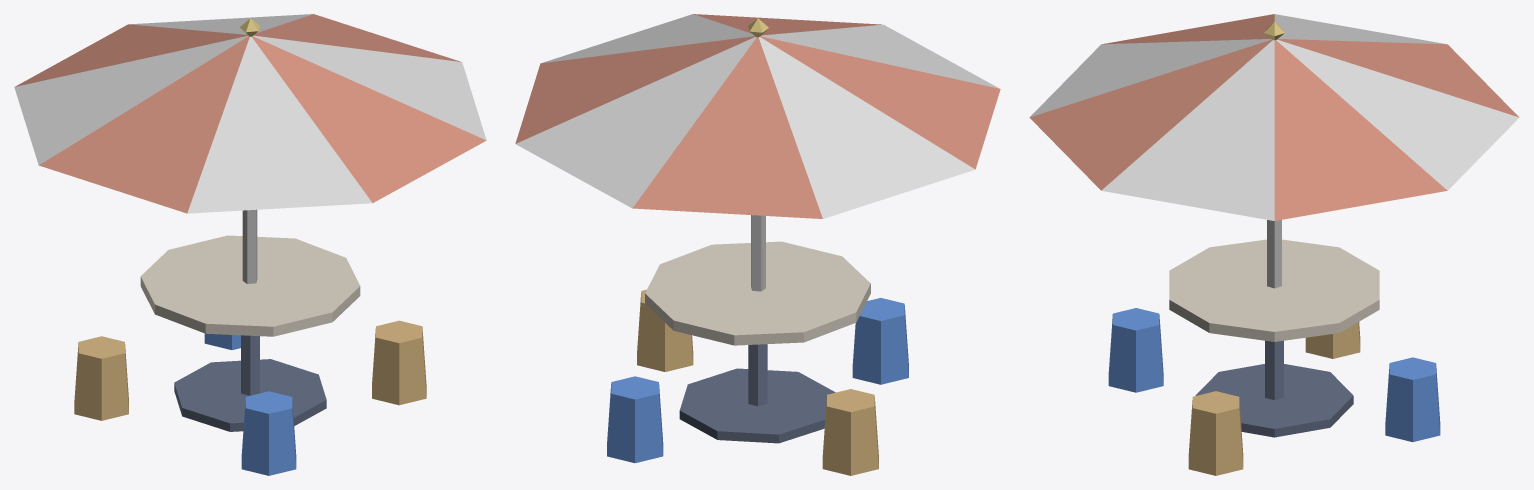
File: umbrella_table.glb
3 views of the same model, side by side, from view 1: azimuth 30°, elevation 25°; view 2: azimuth 150°, elevation 25°; view 3: azimuth 270°, elevation 25° (orthographic). The views are drawn at different scales.
Bounding box in the file's own units: 3.1 × 2.67 × 3.1.
